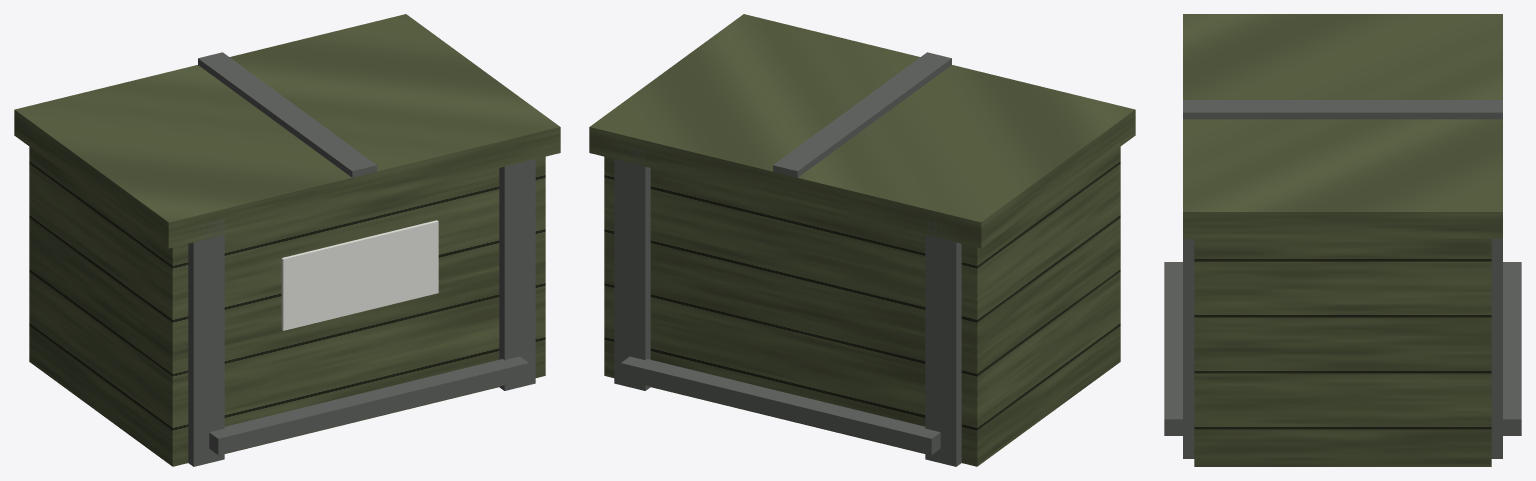
File: crate.glb
The picture shows the model from 3 angles, left to right: view 1: azimuth 30°, elevation 25°; view 2: azimuth 150°, elevation 25°; view 3: azimuth 270°, elevation 25°; orthographic projection. The views are drawn at different scales.
Visible parts, largest first — view 1: crate; view 2: crate; view 3: crate.
Part boxes in pixels (left/top/right/bottom): crate: left=14, top=14, right=560, bottom=466; crate: left=589, top=14, right=1135, bottom=466; crate: left=1164, top=14, right=1521, bottom=466.
Bounding box in the file's own units: 1.28 × 0.8 × 0.9722.
Materials: 3 (1 with a texture image).
